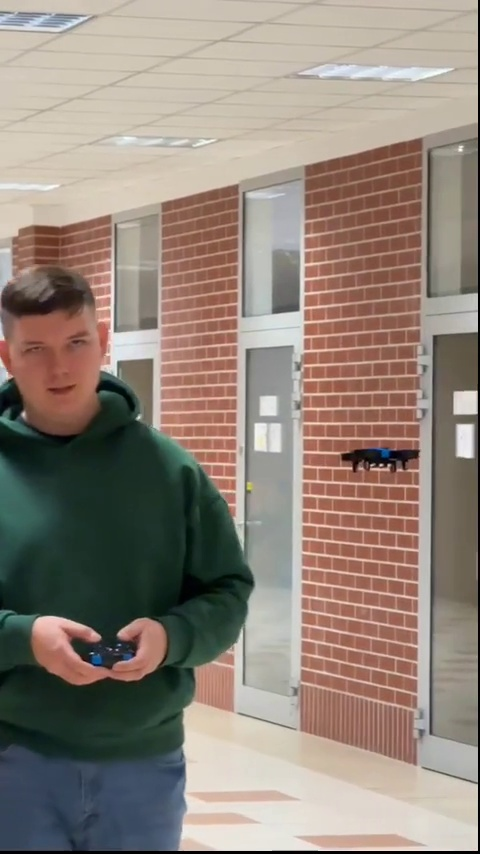drone: (342, 447, 419, 472)
no vest: (0, 266, 249, 854)
